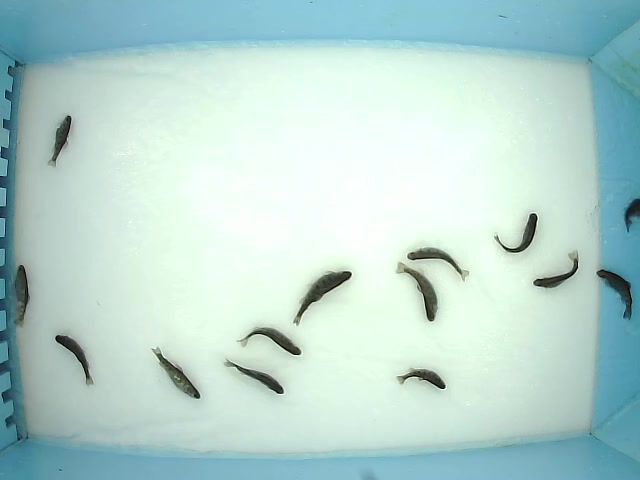fish: (292, 270, 352, 327), (394, 260, 439, 322), (151, 345, 201, 400), (221, 357, 285, 395), (53, 333, 95, 386), (407, 247, 470, 282), (236, 325, 303, 357), (595, 268, 634, 322), (492, 211, 538, 255), (532, 249, 580, 289), (46, 114, 73, 169), (11, 264, 32, 329), (395, 367, 446, 391)
